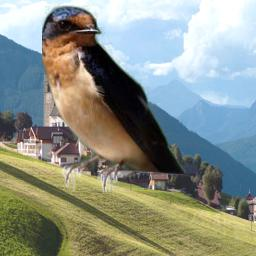Swallow: (42, 5, 186, 192)
